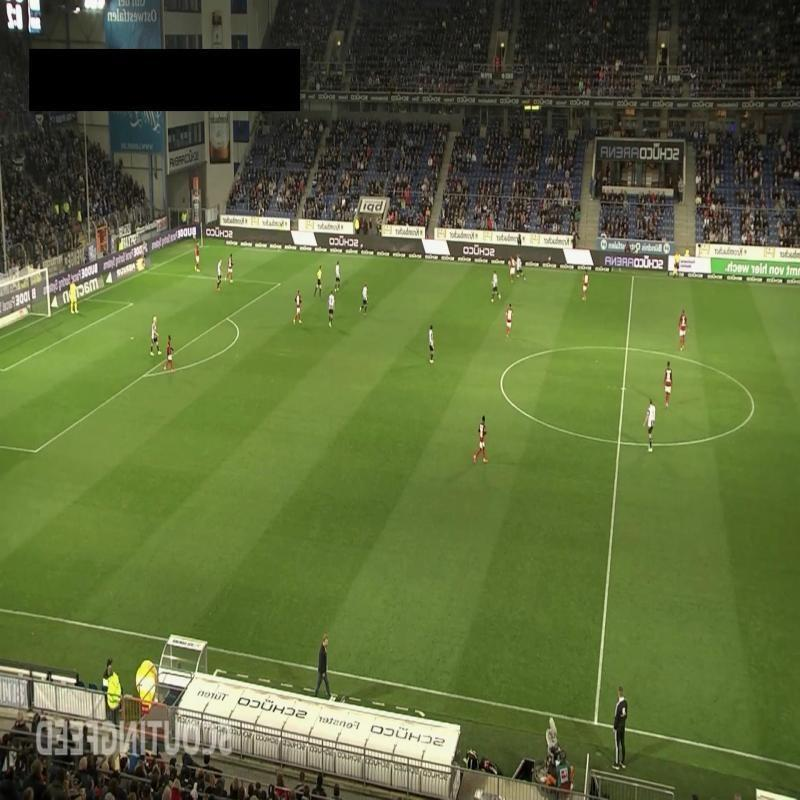1: (194, 239, 208, 253)
10: (220, 312, 234, 326)
11: (138, 368, 152, 382)
12: (28, 445, 42, 459)
13: (625, 266, 641, 284), (628, 270, 640, 282)
14: (620, 340, 635, 356)
15: (612, 434, 628, 450)
16: (585, 710, 607, 737)
2: (136, 266, 150, 280)
3: (78, 292, 92, 306)
7: (124, 296, 138, 310)
8: (0, 364, 8, 376)
9: (274, 276, 288, 290)
c: (492, 372, 510, 388), (746, 399, 760, 413)
